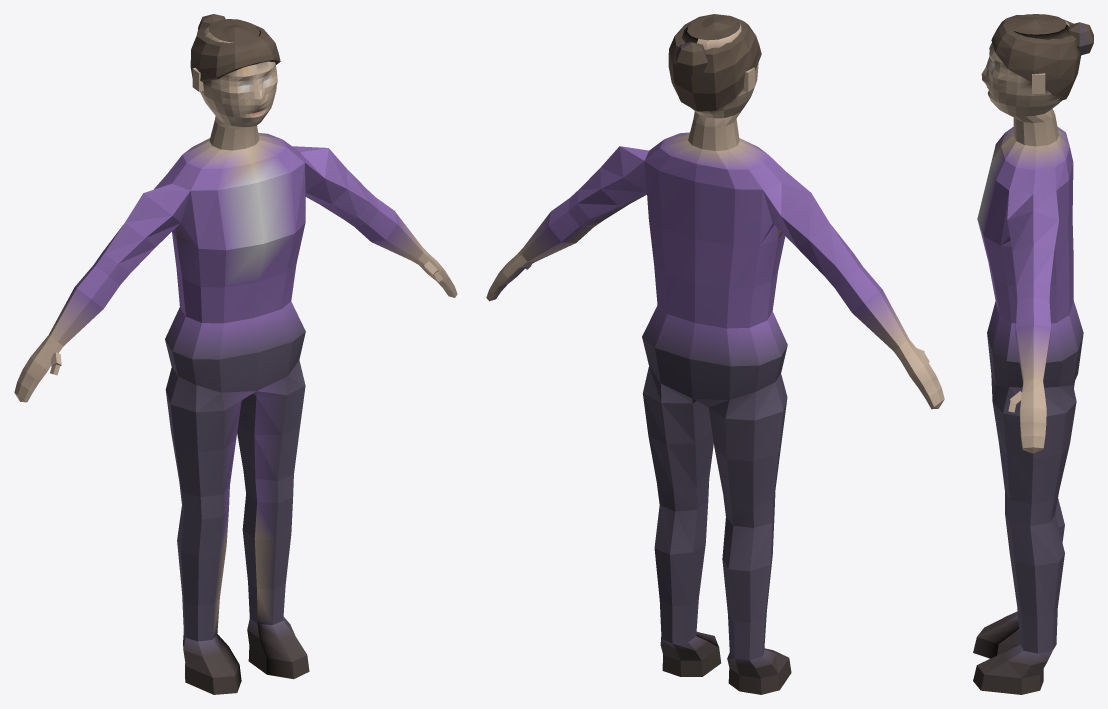
The model's file is char__pessoa__marta.glb.
3 renders of one model, left to right at view 1: azimuth 30°, elevation 25°; view 2: azimuth 150°, elevation 25°; view 3: azimuth 270°, elevation 25°, orthographic. The views are drawn at different scales.
Parts seen in each view (by area): view 1: char__pessoa__marta; view 2: char__pessoa__marta; view 3: char__pessoa__marta.
Part boxes in pixels (<box>): char__pessoa__marta: <box>14,14,457,694</box>; char__pessoa__marta: <box>486,14,944,694</box>; char__pessoa__marta: <box>973,14,1093,694</box>.
Size of the model in its own units: 1.22 by 1.71 by 0.2873.
